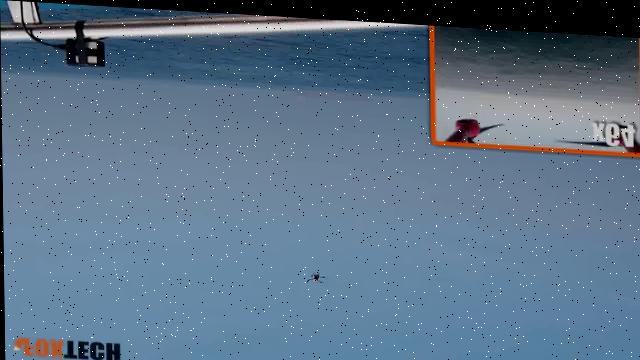drone: (295, 258, 331, 291)
